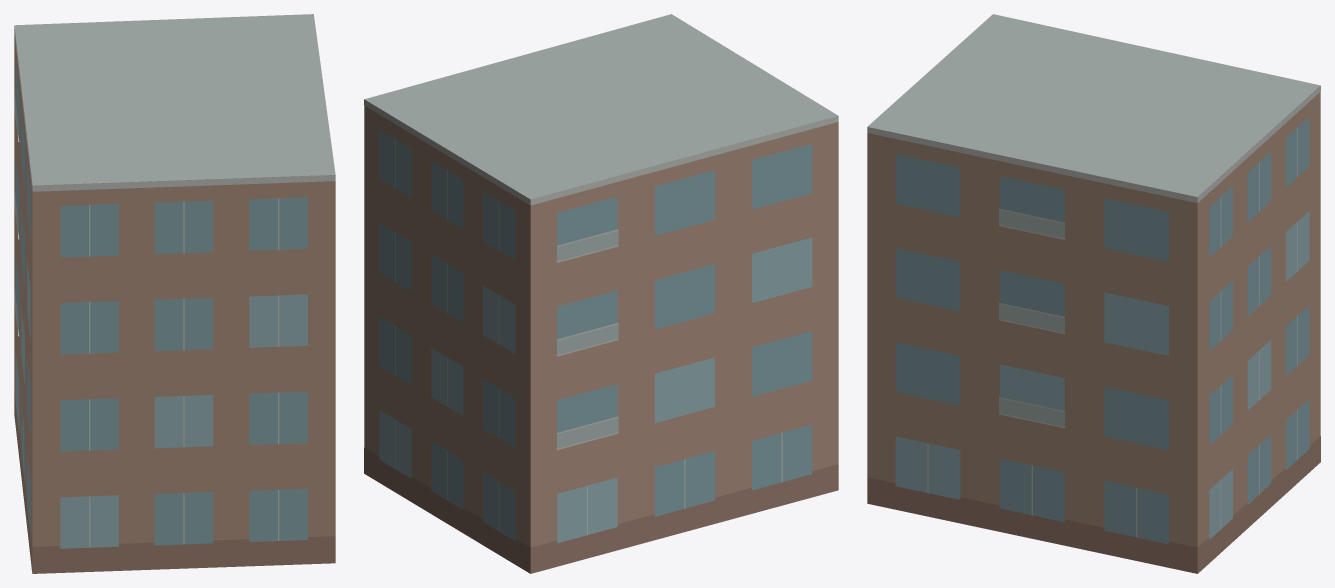
File: survey-upis-32478134.glb
The picture shows the model from 3 angles, left to right: view 1: azimuth 30°, elevation 25°; view 2: azimuth 150°, elevation 25°; view 3: azimuth 270°, elevation 25°; orthographic projection. The views are drawn at different scales.
Parts seen in each view (by area): view 1: survey-upis-32478134.tmp; view 2: survey-upis-32478134.tmp; view 3: survey-upis-32478134.tmp.
Part boxes in pixels (x1,y1,x2,y2): survey-upis-32478134.tmp: [14, 14, 335, 573]; survey-upis-32478134.tmp: [364, 14, 838, 573]; survey-upis-32478134.tmp: [867, 14, 1320, 573].
Bounding box in the file's own units: 15.84 × 15.19 × 16.58.
